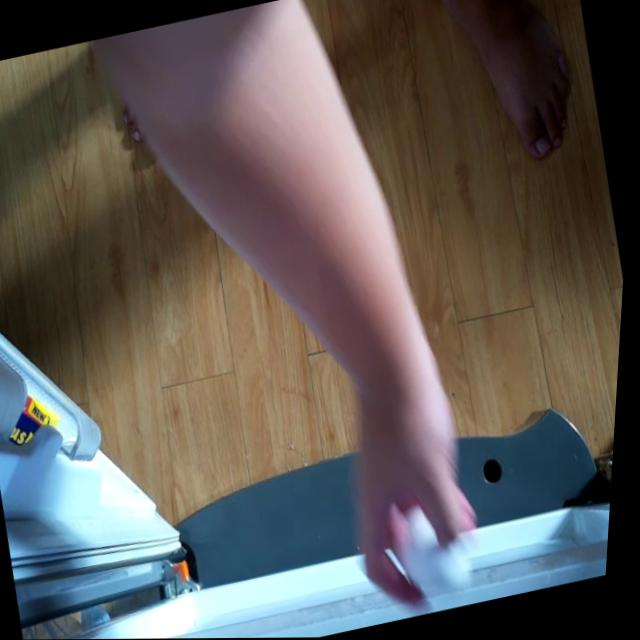egg: (399, 494, 488, 608)
